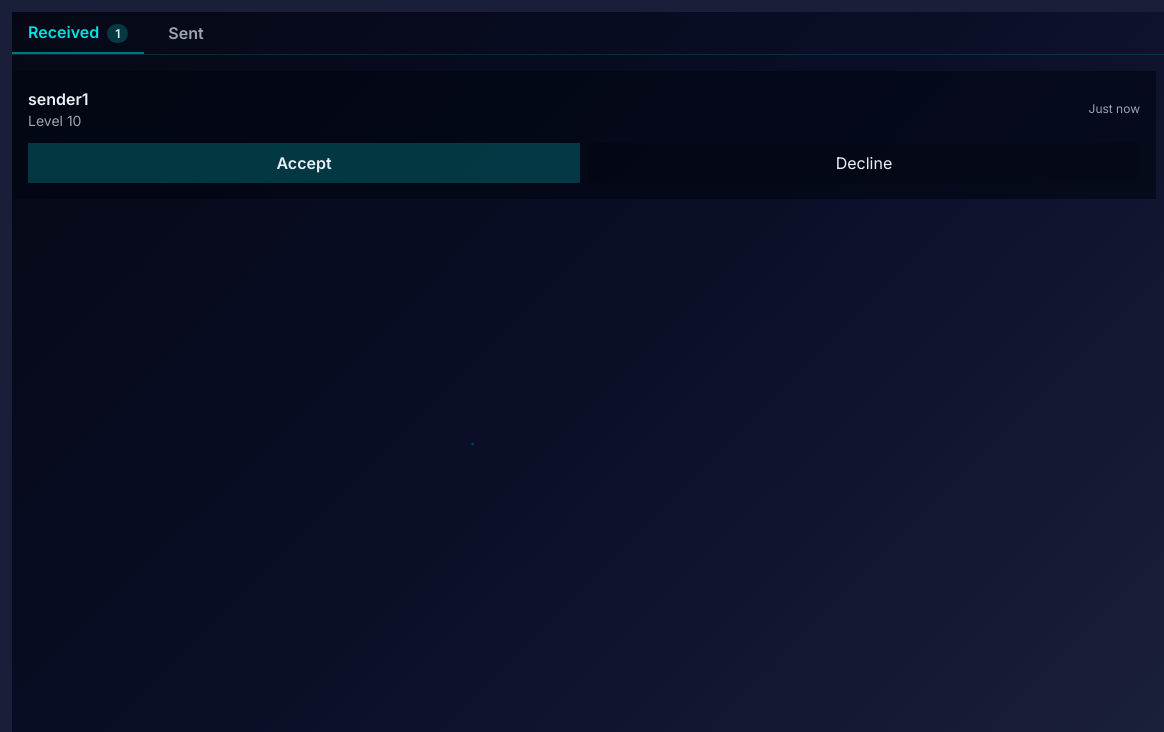
FriendRequestsPanel Component › Received Request Actions › should decline friend request successfully
Click the button "Decline" at [864, 163], box [588,143,1140,183]
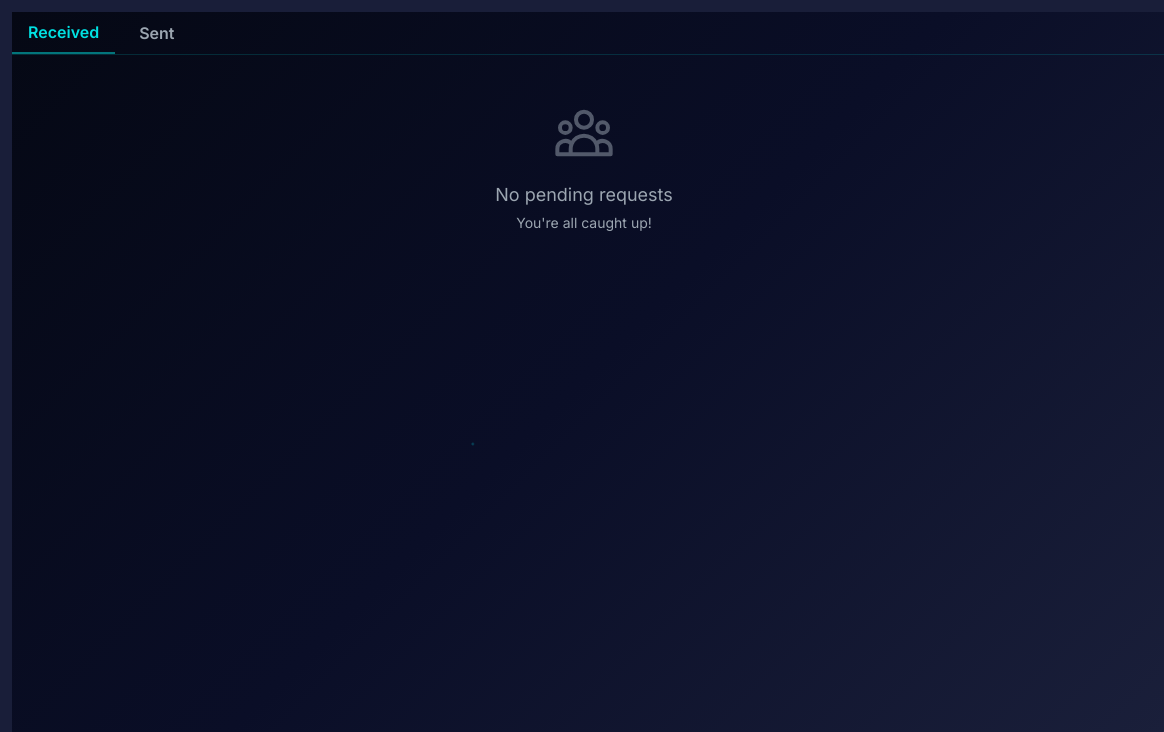
Expected: the text "sender1" is gone
